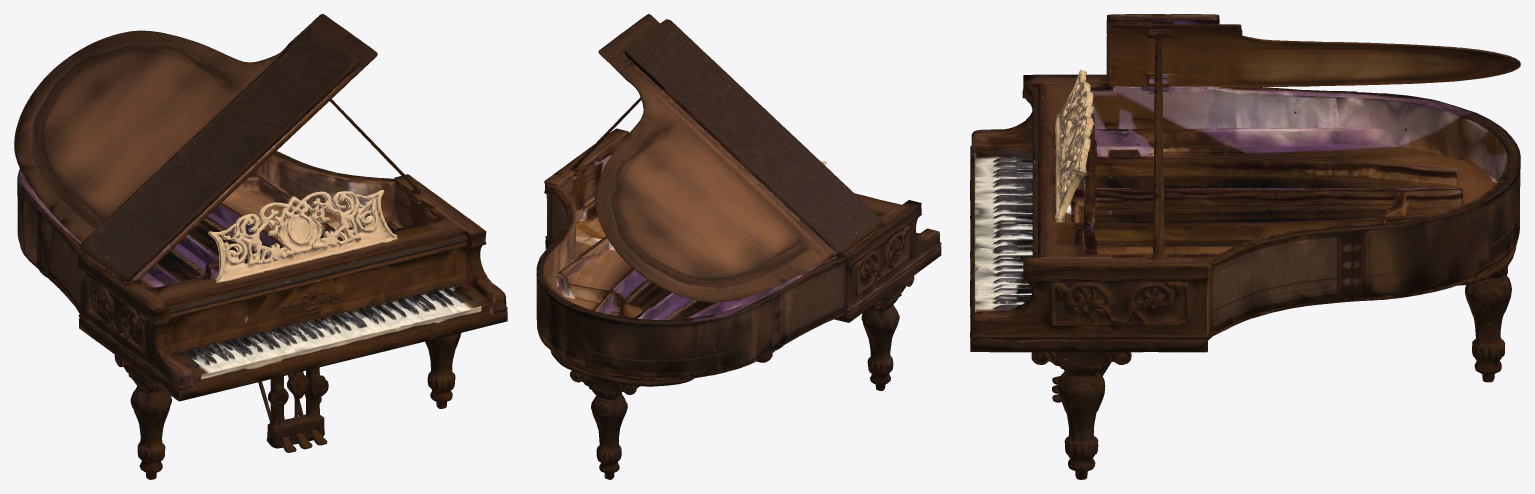
The model's file is piano.glb.
3 views of the same model, side by side, from view 1: azimuth 30°, elevation 25°; view 2: azimuth 150°, elevation 25°; view 3: azimuth 270°, elevation 25° (orthographic). The views are drawn at different scales.
Bounding box in the file's own units: 1.56 × 1.62 × 1.9.
Materials: 1 (1 with a texture image).
